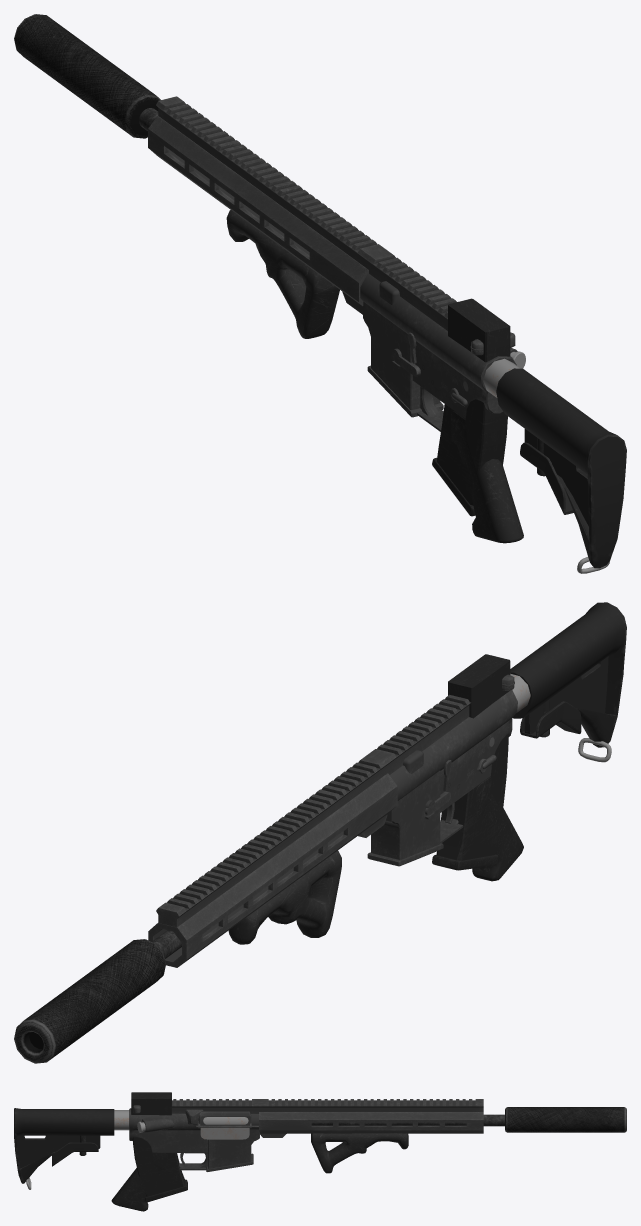
3 views of the same model, one above another, from view 1: azimuth 30°, elevation 25°; view 2: azimuth 150°, elevation 25°; view 3: azimuth 270°, elevation 25° (orthographic). The views are drawn at different scales.
Visible parts, largest first — view 1: Body, Magazine; view 2: Body, Magazine; view 3: Body, Magazine.
Part boxes in pixels (box(x1,y1,x2,y2)): Body: box(14, 14, 626, 573); Magazine: box(432, 298, 510, 516); Body: box(14, 602, 626, 1063); Magazine: box(432, 654, 510, 870); Body: box(14, 1099, 626, 1211); Magazine: box(131, 1092, 187, 1202).
Size of the model in its own units: 0.0531 by 0.1845 by 0.9049.
4 materials, 4 textured.
